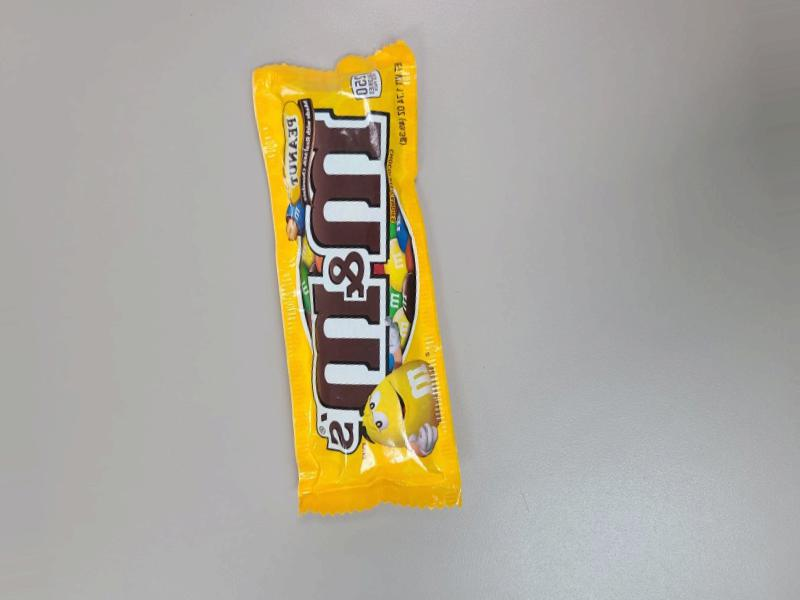m&m: (271, 49, 444, 520)
